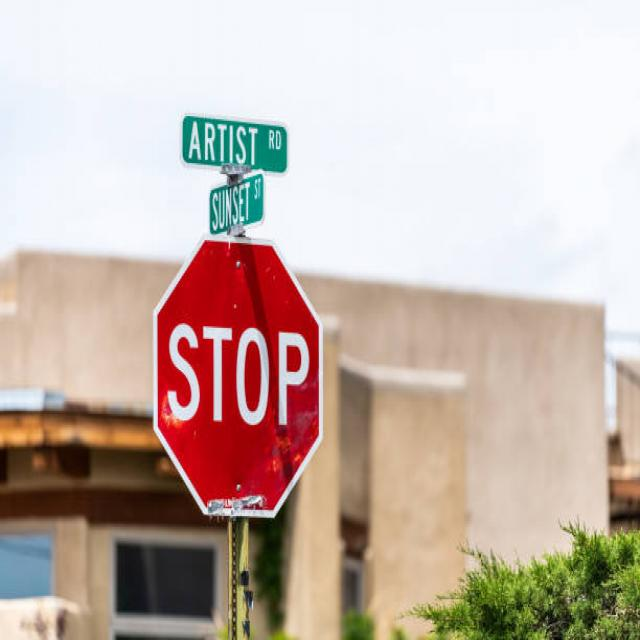stop: (147, 230, 328, 526)
